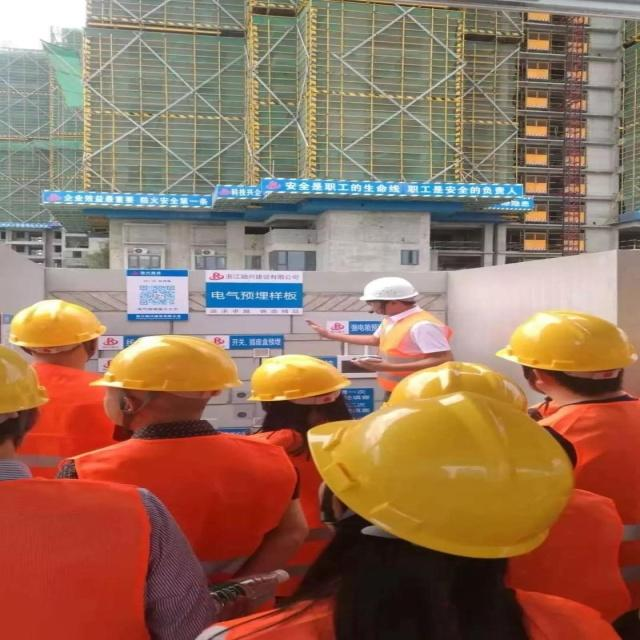helmet: (315, 527, 575, 640), (95, 438, 233, 562), (502, 412, 639, 528), (246, 462, 347, 554), (1, 453, 55, 611), (7, 400, 105, 487), (354, 366, 420, 418)
vest: (377, 417, 456, 492)
